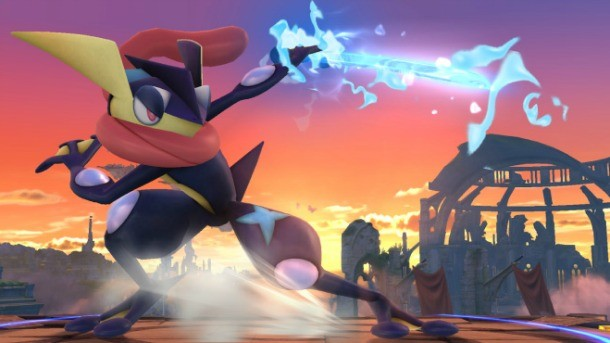greninja: (11, 18, 465, 340)
